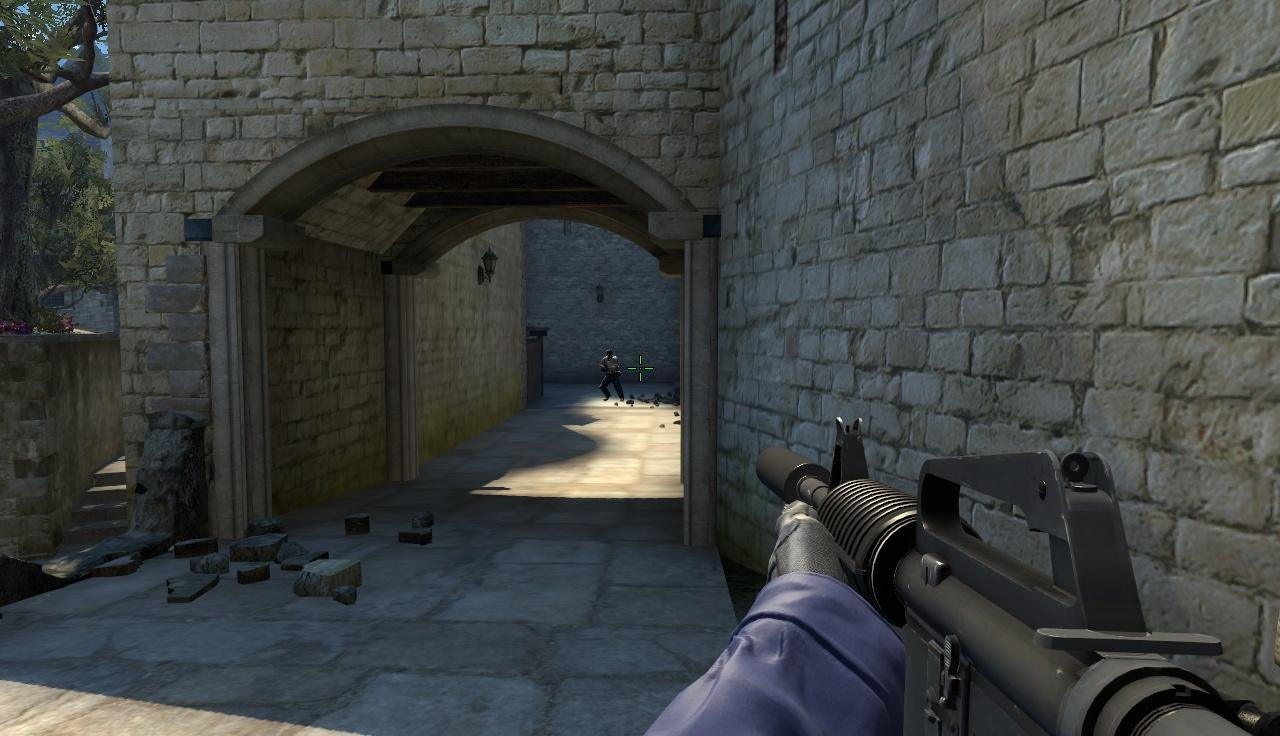rifle: (737, 412, 1280, 736)
tt: (601, 349, 622, 402)
tthead: (606, 349, 613, 360)
